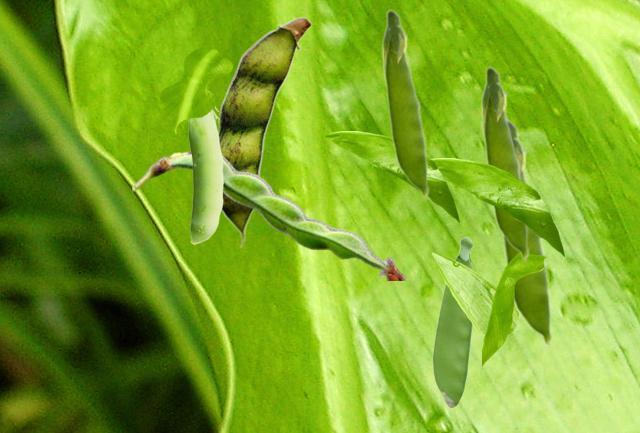pea: (132, 150, 405, 279), (217, 16, 311, 247), (500, 118, 553, 348), (480, 65, 529, 262), (381, 8, 429, 200), (432, 236, 473, 407), (188, 106, 222, 243)
